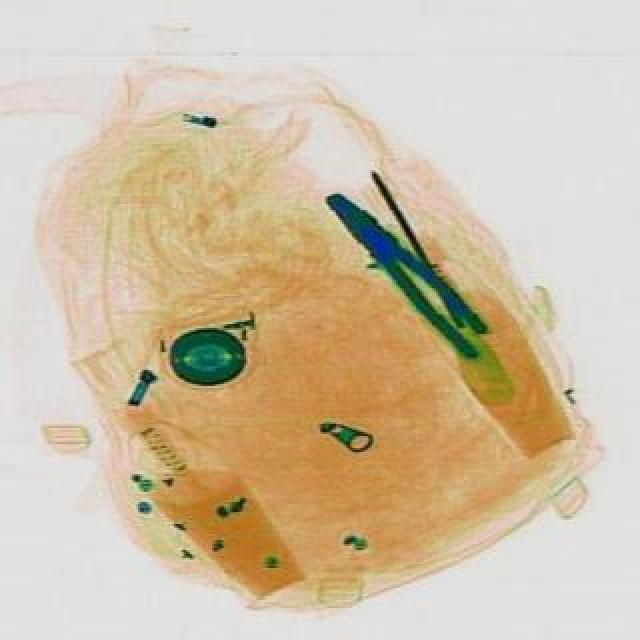wrench: (312, 178, 500, 362)
